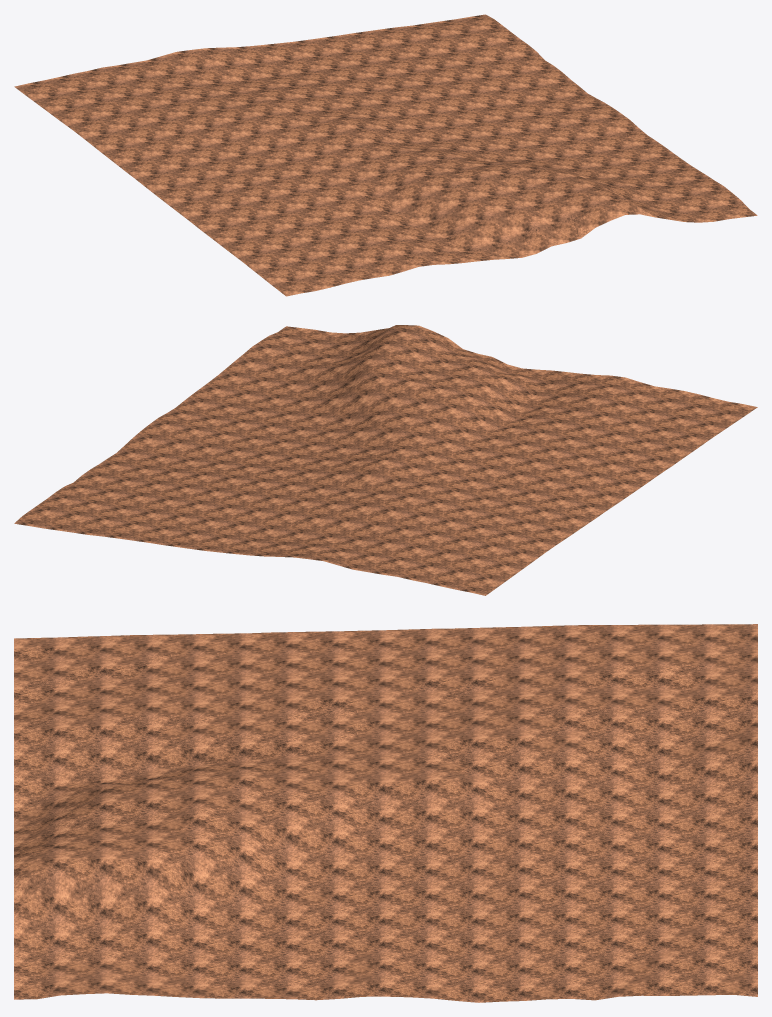
File: terrain_09_13.dae
3 renders of one model, top to bottom at view 1: azimuth 30°, elevation 25°; view 2: azimuth 150°, elevation 25°; view 3: azimuth 270°, elevation 25°, orthographic. The views are drawn at different scales.
Visible parts, largest first — view 1: terrain_09_13-node; view 2: terrain_09_13-node; view 3: terrain_09_13-node.
Boxes of the visible parts, bbox=[...] form: terrain_09_13-node: bbox=[14, 14, 757, 296]; terrain_09_13-node: bbox=[14, 325, 757, 595]; terrain_09_13-node: bbox=[14, 624, 757, 1002].
Bounding box in the file's own units: 128 × 128 × 12.23.
1 material, 1 textured.
